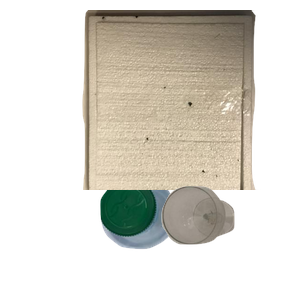glass: (159, 184, 300, 300)
metal: (99, 68, 244, 184)
plastic: (98, 176, 266, 300)
trash: (80, 10, 300, 190)
